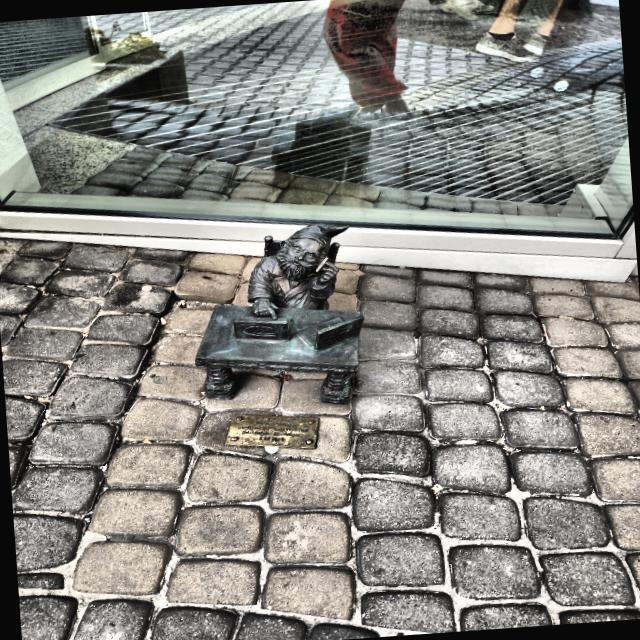WIZek: (195, 223, 363, 404)
